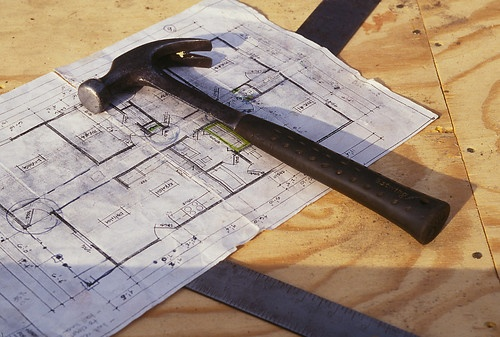hammer: (77, 37, 451, 243)
